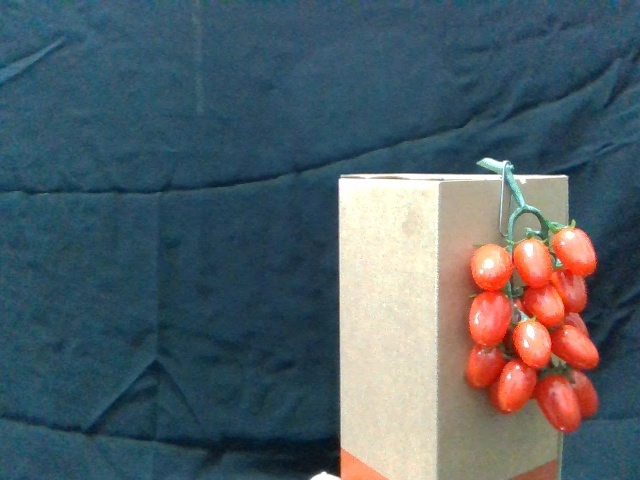tomato: (468, 290, 513, 348), (540, 375, 584, 433), (554, 224, 599, 277), (552, 323, 601, 370), (494, 361, 539, 412), (514, 236, 555, 288), (561, 365, 601, 418), (512, 316, 551, 368), (521, 283, 565, 326), (472, 245, 514, 290), (464, 346, 504, 388), (556, 269, 588, 313)
